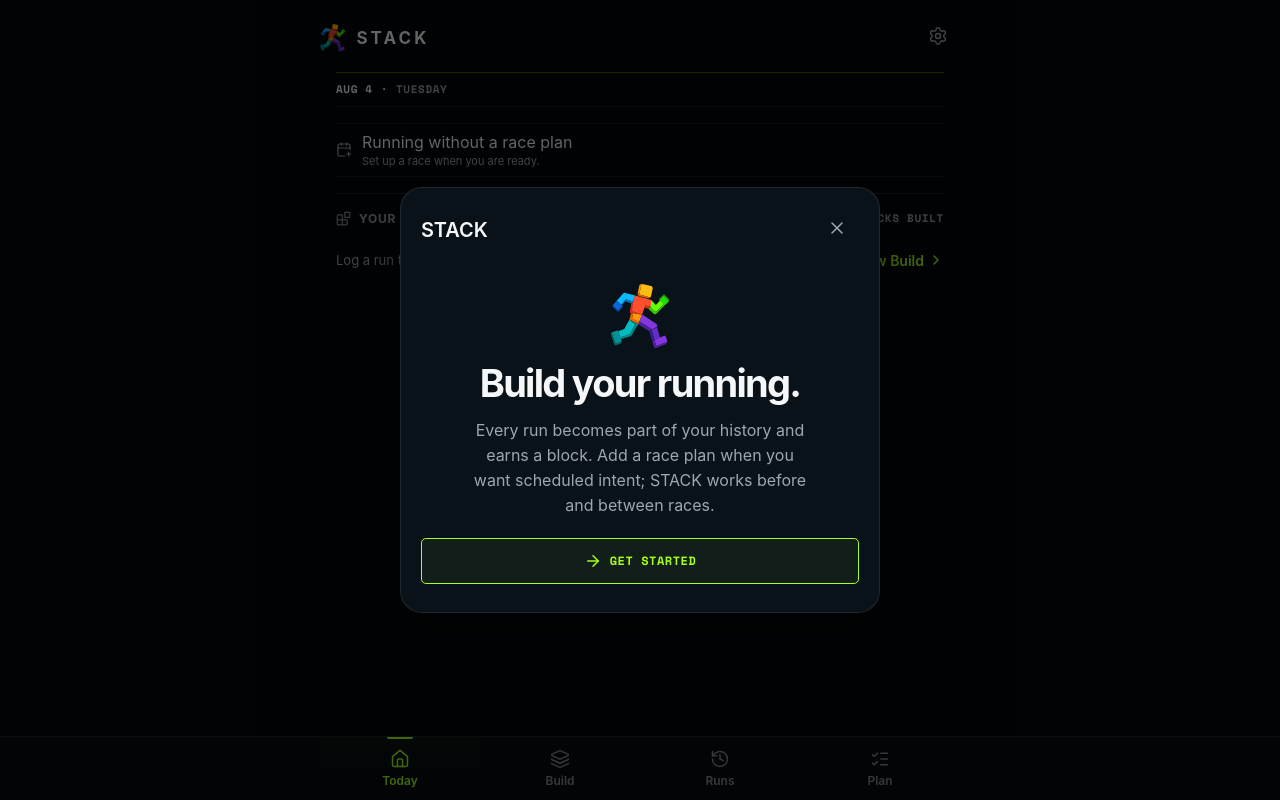
Test case: App › welcomes a brand-new user, then teaches actual Runs before optional Plan
Check: the heading "Build your running." is shown, box [480,360,800,406]
Check: the text "Add a race plan when you want scheduled intent" is shown, box [474,420,806,515]
What coordinates should you click on to do the following:
click the button "Get Started"
I would click on:
 (640, 561)
Its box is [421,538,859,584].
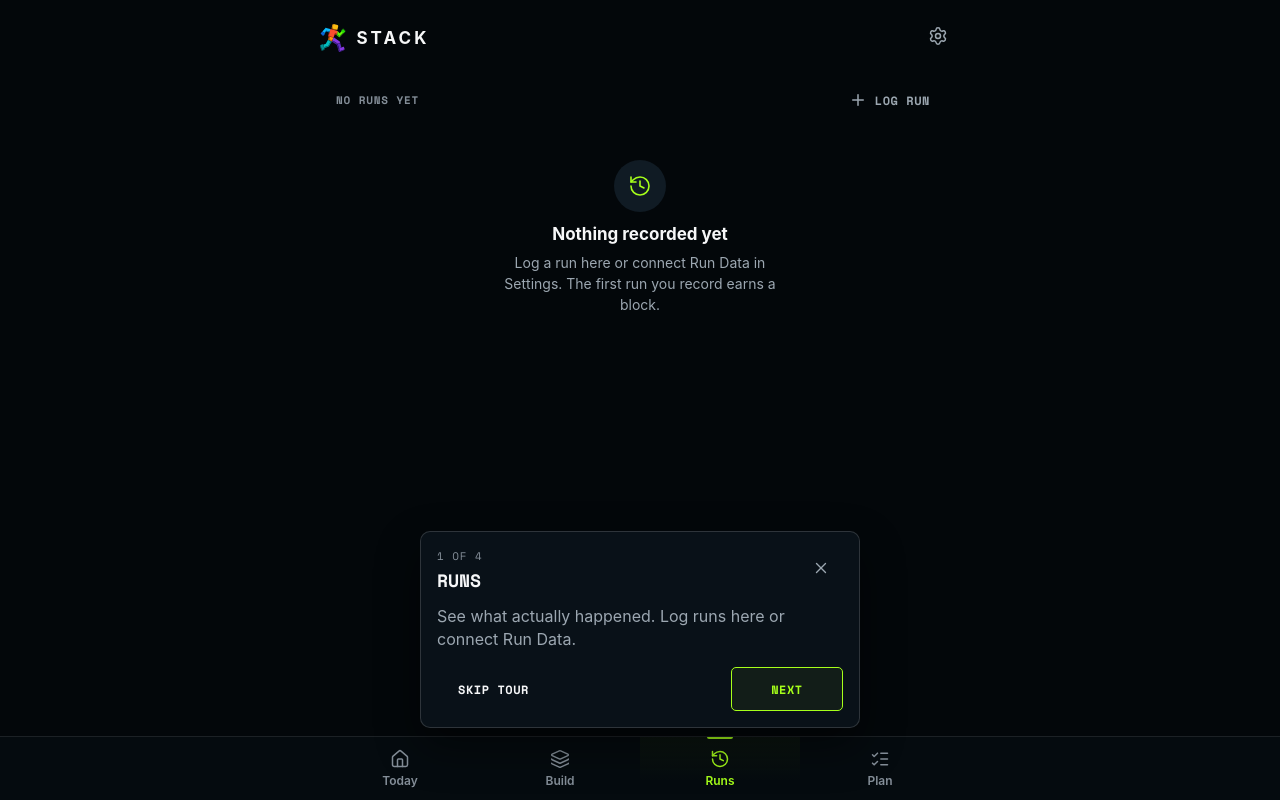
Check: the dialog "Runs" shows "1 of 4", box [420,531,860,728]
